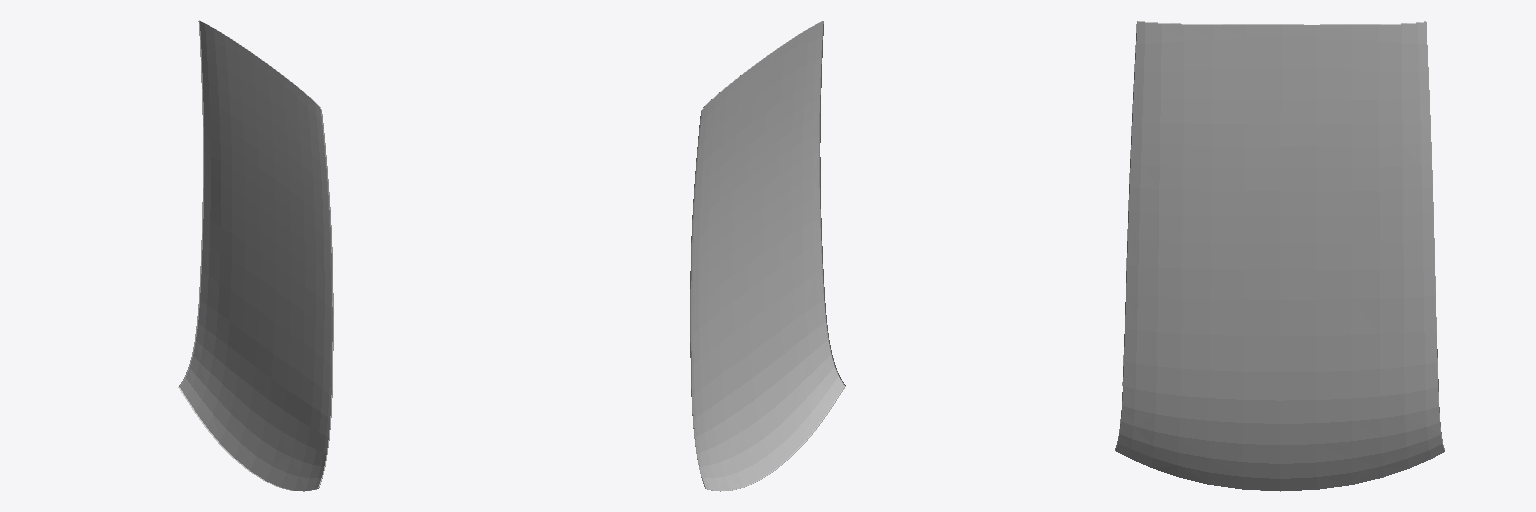
The robot description file, URDF, robot "carDoor":
<?xml version="1.0"?>
<robot name="carDoor">
  <link name="carDoor_base_link">

    <visual>
      <origin rpy="0 0 0" xyz="0.0 0.0 0.0"/>
      <geometry>
          <mesh filename="roof.obj" scale="1 1 1"/>
      </geometry>
      <material name="gray">
        <color rgba="0.8 0.8 0.8 1"/>
      </material>
    </visual>
    <collision>
      <origin rpy="0 0 0" xyz="0.0 0.0 0.0"/>
      <geometry>
          <mesh filename="roof.obj" scale="1 1 1"/>
      </geometry>
    </collision>
  </link>
</robot>

--- Facts derived from the render (not from the file) ---
3 views of the same robot in one strip: view 1: azimuth 30°, elevation 25°; view 2: azimuth 150°, elevation 25°; view 3: azimuth 270°, elevation 25° (orthographic).
Robot: carDoor — 1 links, 0 joints (none); root link carDoor_base_link; default pose: every joint at zero.
Visible links, largest first — view 1: carDoor_base_link; view 2: carDoor_base_link; view 3: carDoor_base_link.
Link boxes in pixels (bbox=[...]): carDoor_base_link: bbox=[178, 20, 333, 491]; carDoor_base_link: bbox=[690, 21, 845, 491]; carDoor_base_link: bbox=[1115, 21, 1444, 491].
Bounding box of the posed robot: 0.1041 × 0.8984 × 1.43 m (x, y, z).
Meshes: 1 distinct files referenced, 1 mesh visuals loaded (1 OBJ).